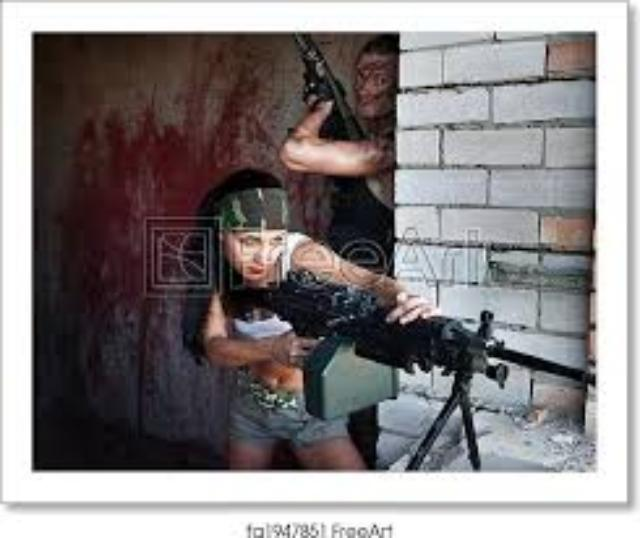other: (205, 178, 395, 462), (282, 33, 396, 190)
